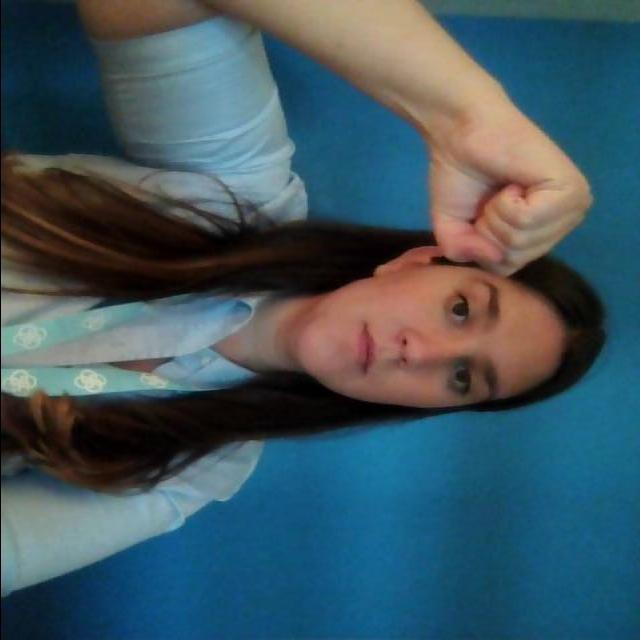Rock: (412, 111, 582, 279)
